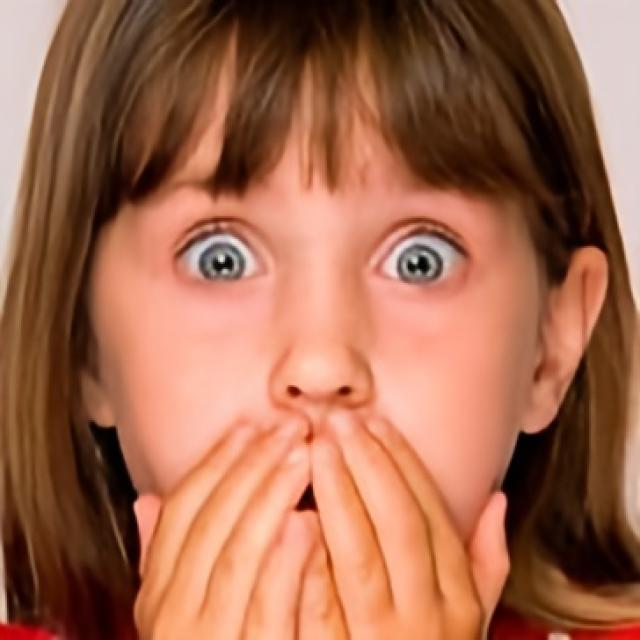fear: (96, 21, 544, 605)
